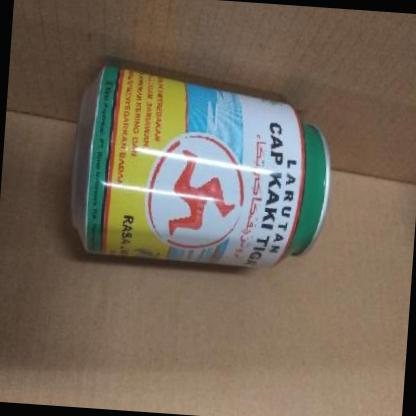alumunium_can: (59, 59, 343, 290)
